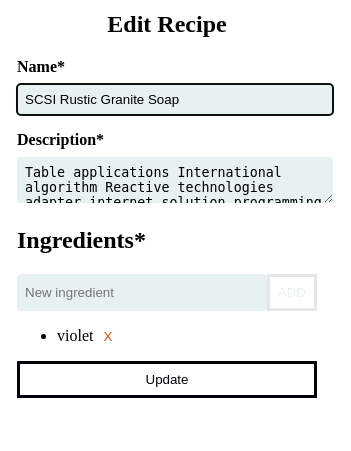
Test: EditRecipe › displays validation errors
The image size is (351, 451).
Note: Validate form fields
Clear the field labelled "Name*" at (175, 99), box x1=17 y1=84 x2=333 y2=115
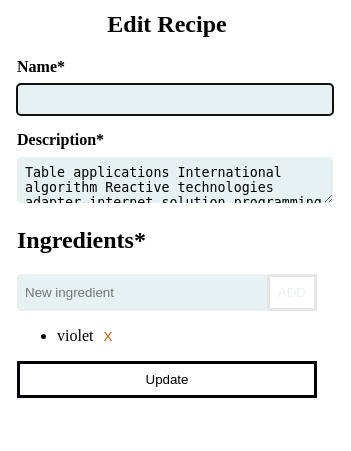
Leave the field labelled "Name*", box x1=17 y1=84 x2=333 y2=115
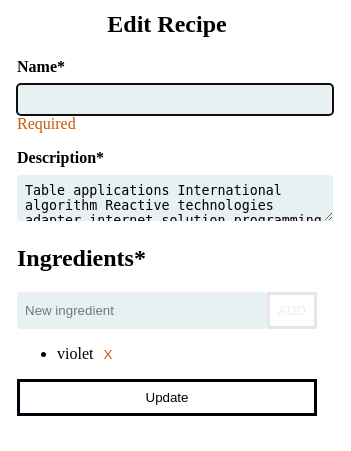
Result: the text "Required" is shown at x1=17 y1=115 x2=76 y2=132
Clear the text box labelled "Description*" at (175, 198), box x1=17 y1=175 x2=333 y2=221
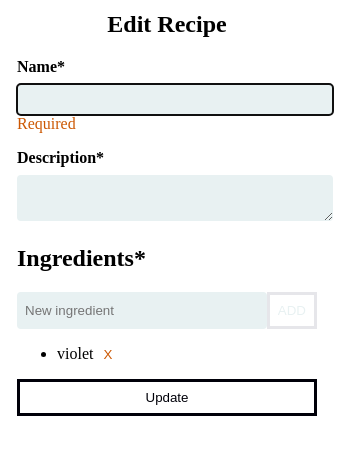
Leave the text box labelled "Description*", box x1=17 y1=175 x2=333 y2=221
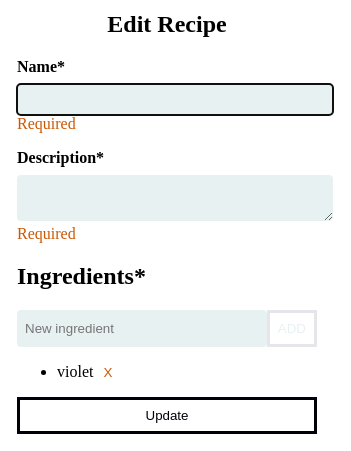
Result: the text "Required" is shown 2 times at x1=17 y1=115 x2=76 y2=132; x1=17 y1=225 x2=76 y2=242
Note: Remove ingredient
Click the button "X".
click(108, 372)  # box x1=97 y1=364 x2=118 y2=381
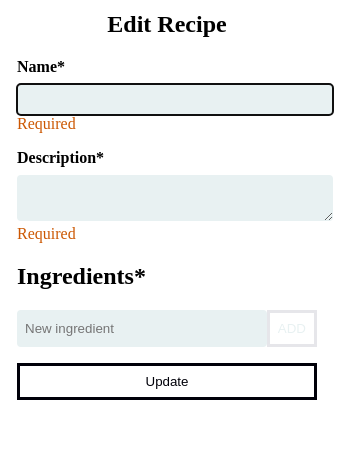
Note: Trigger ingredients message
Click the button "Update".
click(167, 381)  # box x1=17 y1=363 x2=317 y2=400
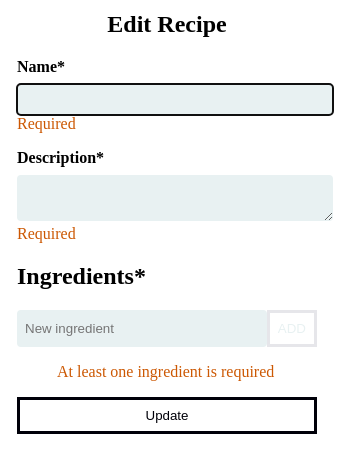
Result: the text "At least one ingredient is required" is shown at x1=57 y1=363 x2=274 y2=380
